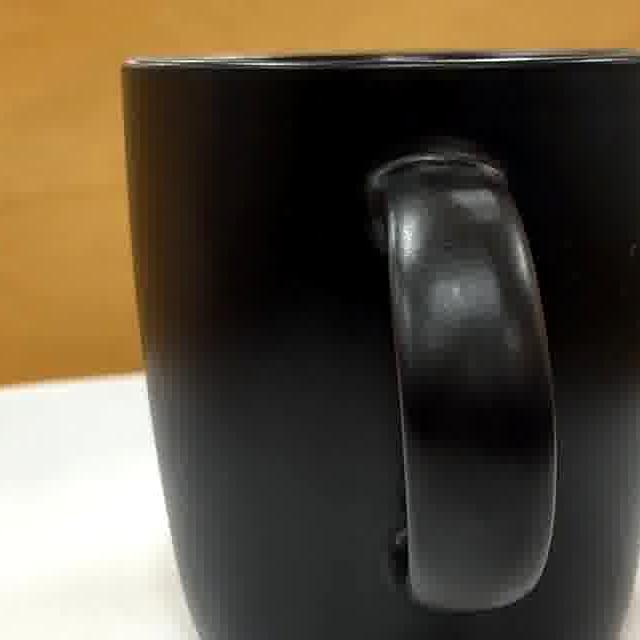cup: (129, 55, 640, 640)
